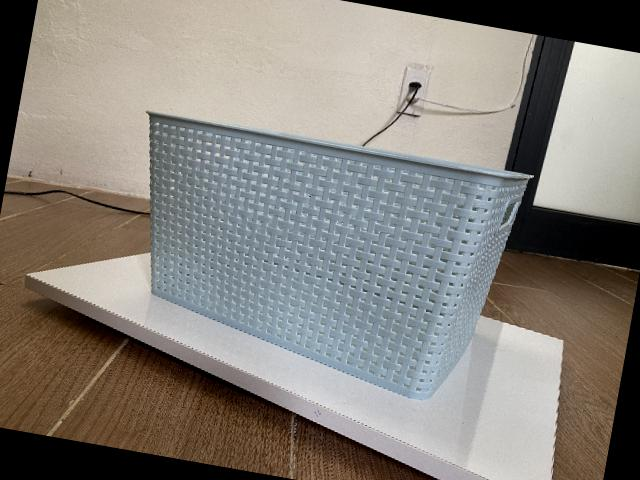cart: (145, 112, 531, 402)
